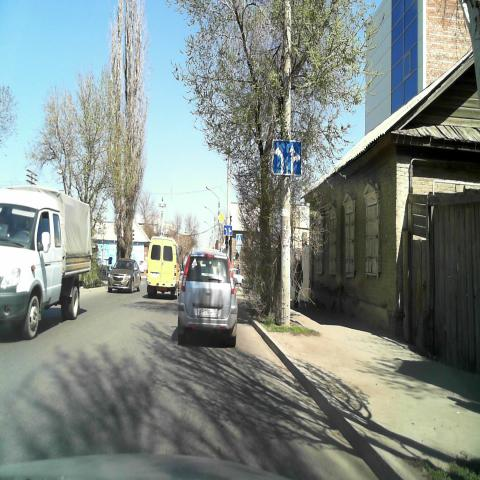5_15_2_2: (272, 139, 302, 176)
